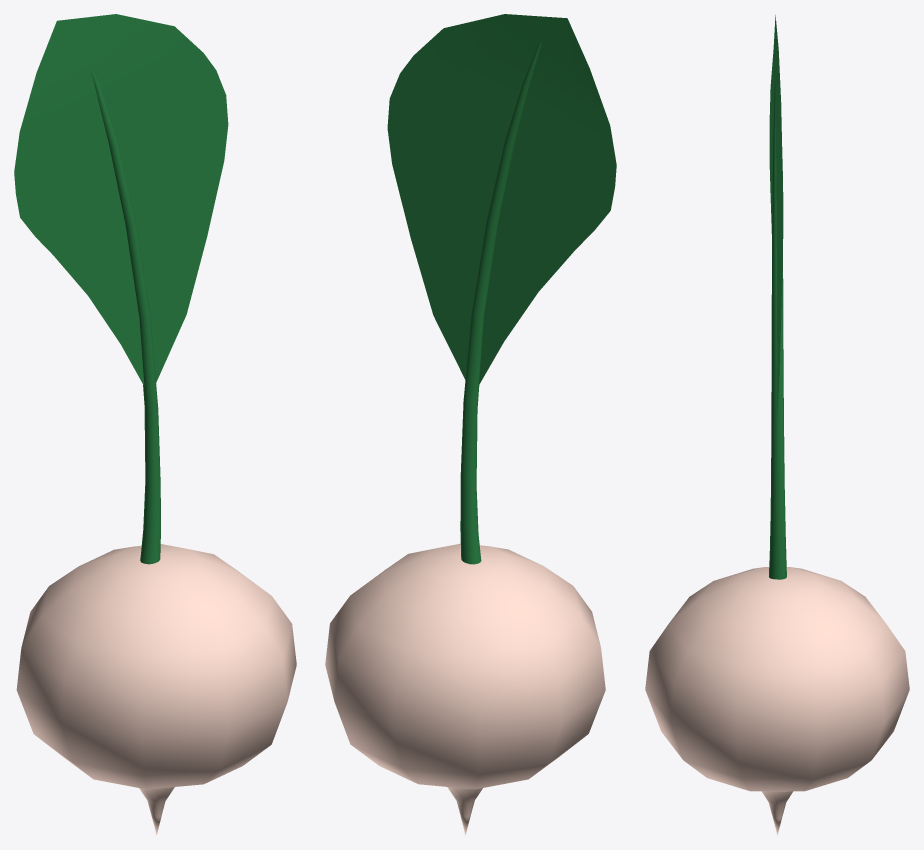
The model's file is msh_nabo.fbx.
The picture shows the model from 3 angles, left to right: view 1: azimuth 30°, elevation 25°; view 2: azimuth 150°, elevation 25°; view 3: azimuth 270°, elevation 25°; orthographic projection. The views are drawn at different scales.
Visible parts, largest first — view 1: Nabo; view 2: Nabo; view 3: Nabo.
Part boxes in pixels (x1,y1,x2,y2): Nabo: (14,14,296,835); Nabo: (325,14,616,835); Nabo: (645,15,909,835).
Size of the model in its own units: 33.27 by 101 by 31.18.
